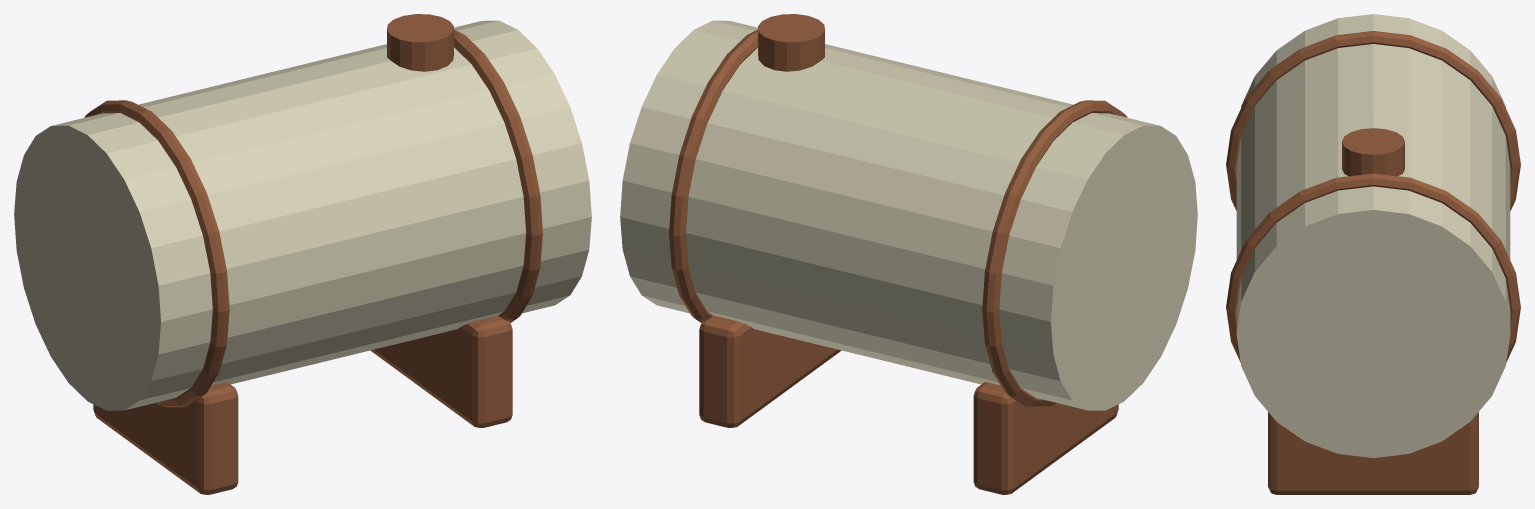
File: Rusted_Water_Tank_Barren.glb
3 renders of one model, left to right at view 1: azimuth 30°, elevation 25°; view 2: azimuth 150°, elevation 25°; view 3: azimuth 270°, elevation 25°, orthographic. The views are drawn at different scales.
Parts seen in each view (by area): view 1: Structure; view 2: Structure; view 3: Structure.
Part boxes in pixels (<box>): Structure: <box>14,14,591,494</box>; Structure: <box>620,14,1197,494</box>; Structure: <box>1226,14,1520,494</box>.
Bounding box in the file's own units: 2.2 × 1.78 × 1.4.
